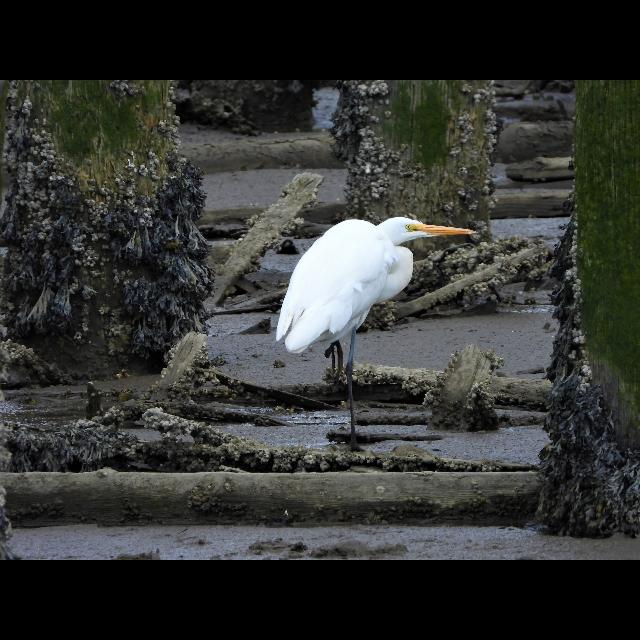egret: (274, 214, 476, 442)
